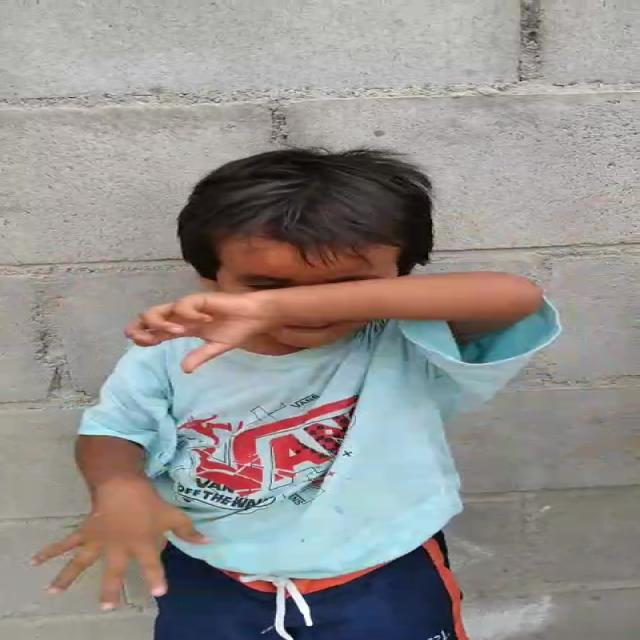7_mano_rostro: (207, 276, 408, 328)
